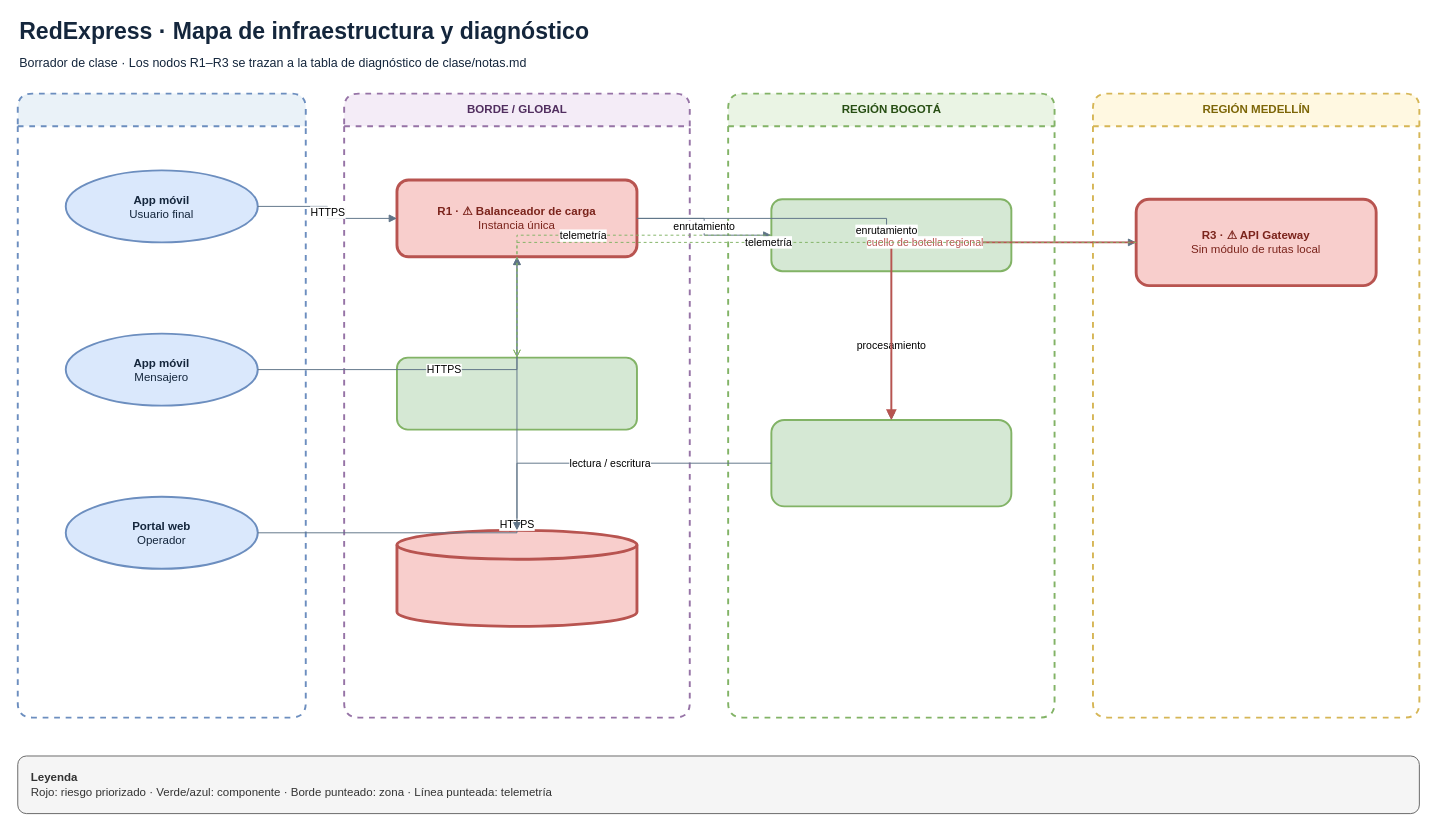
The diagram is 1436 pixels wide and 830 high, and some of its shapes have lost their labels. Each missing label, with the box of its shape:
API Gateway Bogotá: (770, 198, 1012, 272)
CLIENTES: (16, 92, 306, 718)
Monitoreo y alertas Servicio compartido: (396, 356, 637, 430)
Módulo de rutas y paquetes Procesamiento central: (770, 419, 1012, 507)
R2 · ⚠ Base de datos Escritura única en Bogotá: (395, 528, 638, 627)
